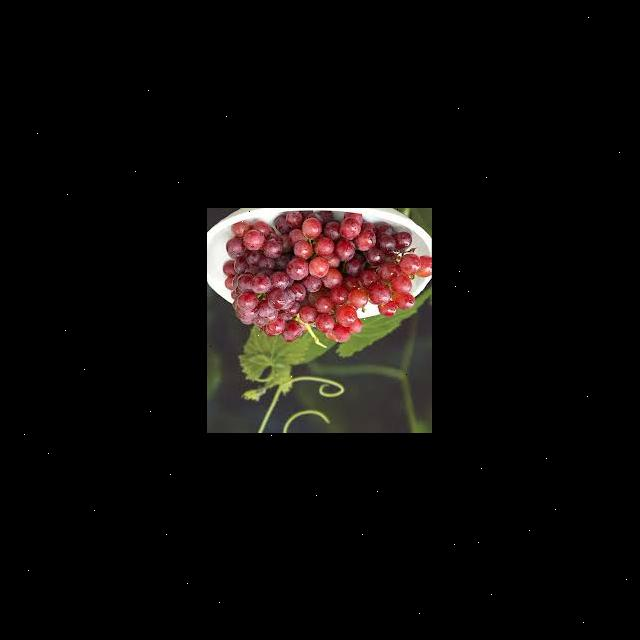grape: (223, 210, 432, 346)
